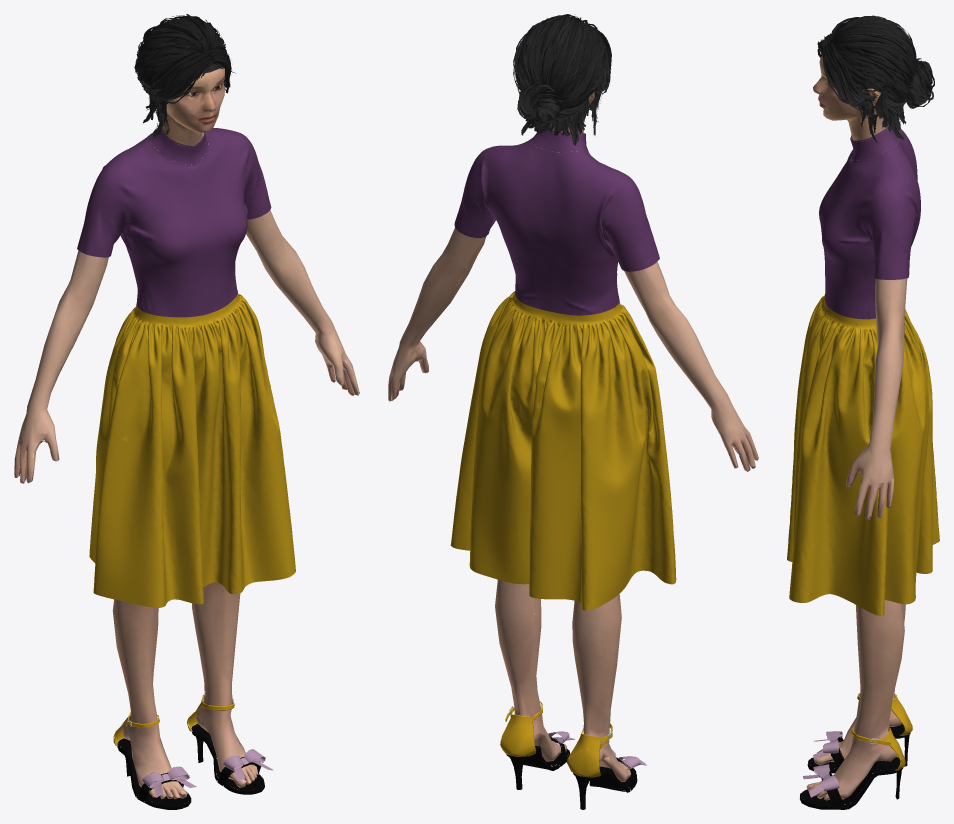
3 renders of one model, left to right at view 1: azimuth 30°, elevation 25°; view 2: azimuth 150°, elevation 25°; view 3: azimuth 270°, elevation 25°, orthographic.
Visible parts, largest first — view 1: Cloth, Avatar; view 2: Cloth, Avatar; view 3: Cloth, Avatar.
Part boxes in pixels (<box>): Cloth: <box>77,128,295,607</box>; Avatar: <box>14,14,359,809</box>; Cloth: <box>450,130,676,610</box>; Avatar: <box>388,14,758,809</box>; Cloth: <box>787,121,939,615</box>; Avatar: <box>800,15,934,809</box>.
Size of the model in its own units: 0.8096 by 1.7 by 0.307.
Materials: 27 (23 with a texture image).
